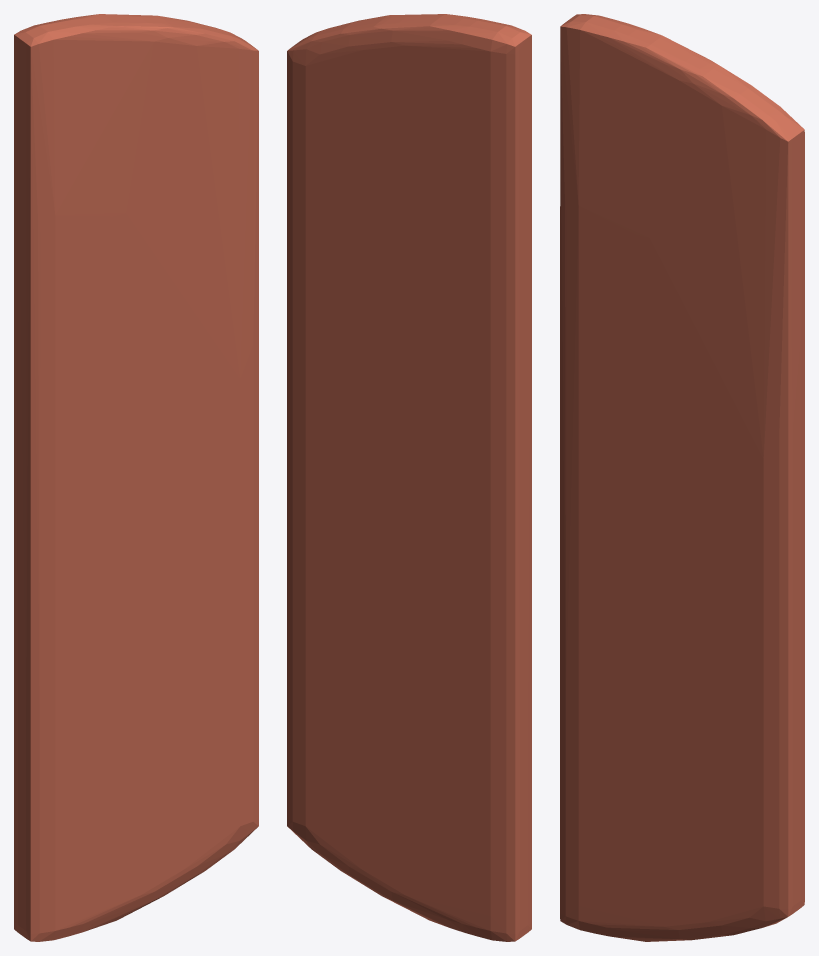
The model's file is right_forearm_0_part_9.obj.
3 views of the same model, side by side, from view 1: azimuth 30°, elevation 25°; view 2: azimuth 150°, elevation 25°; view 3: azimuth 330°, elevation 25° (orthographic).
Size of the model in its own units: 36.16 by 137 by 6.23.
